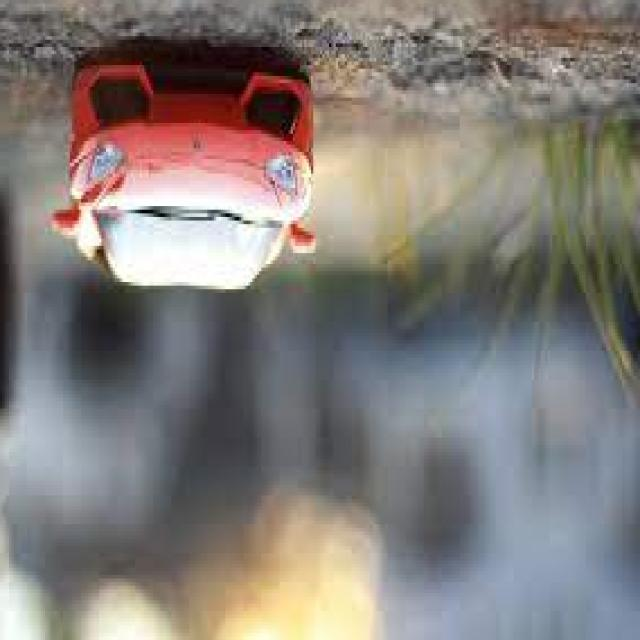Car: (52, 58, 318, 293)
